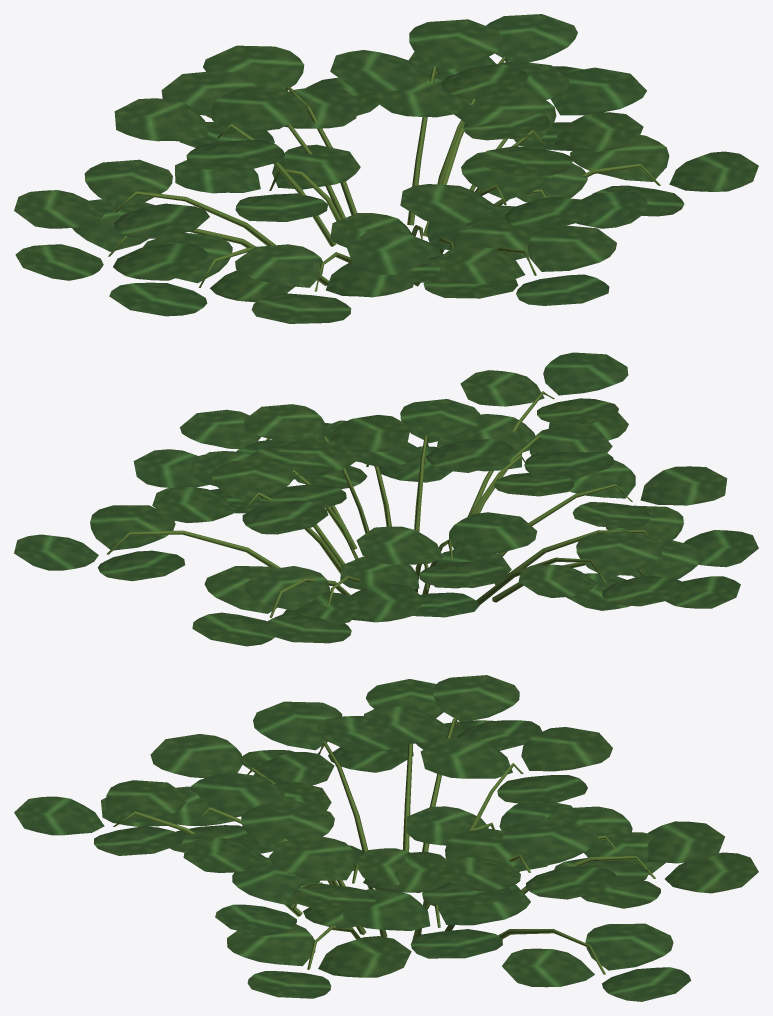
The model's file is clover.glb.
3 renders of one model, top to bottom at view 1: azimuth 30°, elevation 25°; view 2: azimuth 150°, elevation 25°; view 3: azimuth 270°, elevation 25°, orthographic. The views are drawn at different scales.
Visible parts, largest first — view 1: Foliage, Stems; view 2: Foliage, Stems; view 3: Foliage, Stems.
Boxes of the visible parts, left/top/right/bottom form: Foliage: left=14, top=14, right=758, bottom=323; Stems: left=108, top=56, right=660, bottom=291; Foliage: left=14, top=352, right=758, bottom=646; Stems: left=107, top=391, right=650, bottom=617; Foliage: left=14, top=675, right=758, bottom=1001; Stems: left=113, top=718, right=655, bottom=974.
Bounding box in the file's own units: 1.32 × 0.22 × 1.33.
2 materials, 1 textured.
